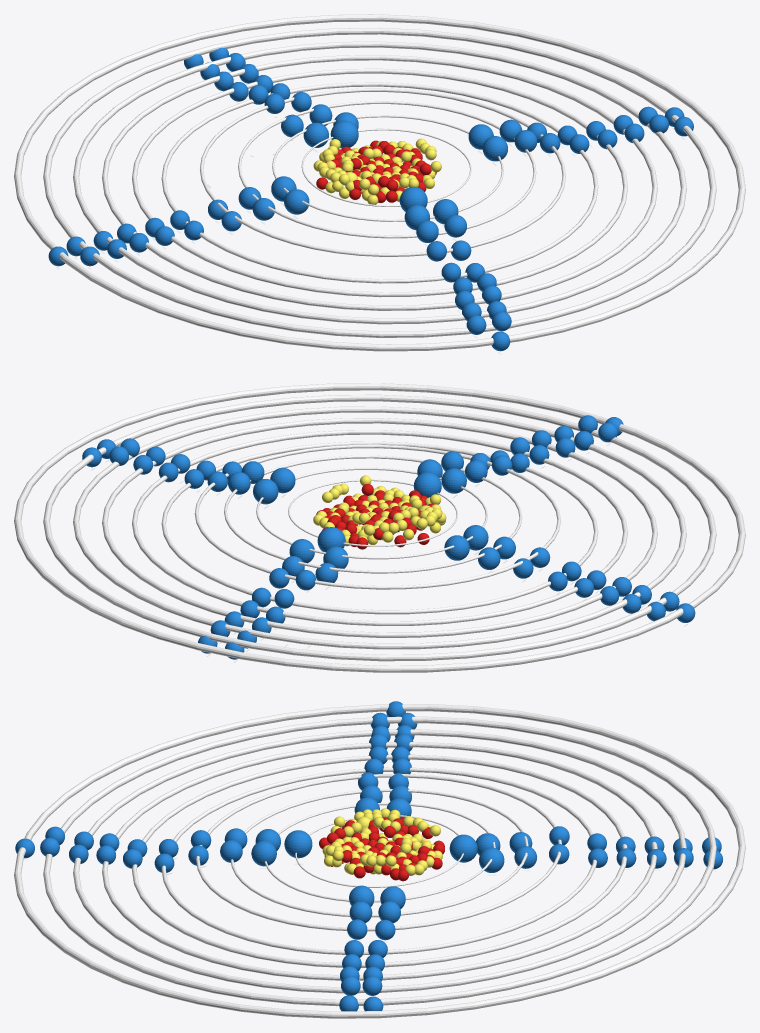
The picture shows the model from 3 angles, top to bottom: view 1: azimuth 30°, elevation 25°; view 2: azimuth 150°, elevation 25°; view 3: azimuth 270°, elevation 25°; orthographic projection.
Visible parts, largest first — view 1: Torus.010, Torus.009, Torus.008, Torus.007, Torus.006, Torus.005, Torus.004, Torus.003, Torus.002, Torus.001, g; view 2: Torus.010, Torus.009, Torus.008, Torus.007, Torus.006, Torus.005, Torus.004, Torus.003, Torus.002, Torus.001, g.001, g (+3 smaller); view 3: Torus.010, Torus.009, Torus.008, Torus.007, Torus.006, Torus.005, Torus.004, Torus.003, Torus.002, g.001, g, Torus.001.
Part boxes in pixels (left/top/right/bottom): Torus.010: left=14, top=14, right=745, bottom=351; Torus.009: left=43, top=27, right=716, bottom=337; Torus.008: left=73, top=41, right=686, bottom=324; Torus.007: left=102, top=55, right=657, bottom=310; Torus.006: left=132, top=68, right=627, bottom=297; Torus.005: left=161, top=82, right=598, bottom=283; Torus.004: left=200, top=88, right=565, bottom=256; Torus.003: left=238, top=101, right=536, bottom=238; Torus.002: left=272, top=115, right=503, bottom=221; Torus.001: left=301, top=128, right=471, bottom=206; g: left=330, top=120, right=358, bottom=148; Torus.010: left=14, top=383, right=745, bottom=672; Torus.009: left=43, top=394, right=716, bottom=661; Torus.008: left=73, top=406, right=686, bottom=649; Torus.007: left=102, top=418, right=657, bottom=637; Torus.006: left=132, top=429, right=627, bottom=626; Torus.005: left=161, top=441, right=598, bottom=614; Torus.004: left=194, top=444, right=560, bottom=589; Torus.003: left=224, top=455, right=522, bottom=573; Torus.002: left=256, top=467, right=487, bottom=559; Torus.001: left=288, top=479, right=457, bottom=546; g.001: left=413, top=472, right=441, bottom=497; g: left=317, top=527, right=345, bottom=551; Torus.010: left=14, top=704, right=745, bottom=1018; Torus.009: left=43, top=716, right=716, bottom=1006; Torus.008: left=73, top=729, right=686, bottom=993; Torus.007: left=102, top=741, right=657, bottom=980; Torus.006: left=132, top=754, right=627, bottom=967; Torus.005: left=161, top=767, right=596, bottom=954; Torus.004: left=196, top=774, right=561, bottom=931; Torus.003: left=230, top=789, right=528, bottom=917; Torus.002: left=264, top=803, right=495, bottom=902; g.001: left=284, top=830, right=312, bottom=858; g: left=449, top=834, right=477, bottom=862; Torus.001: left=295, top=815, right=463, bottom=887.
Size of the model in its own units: 26.06 by 2.85 by 25.83.
